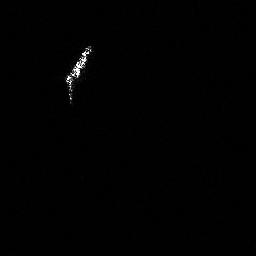ship: (60, 40, 97, 106)
